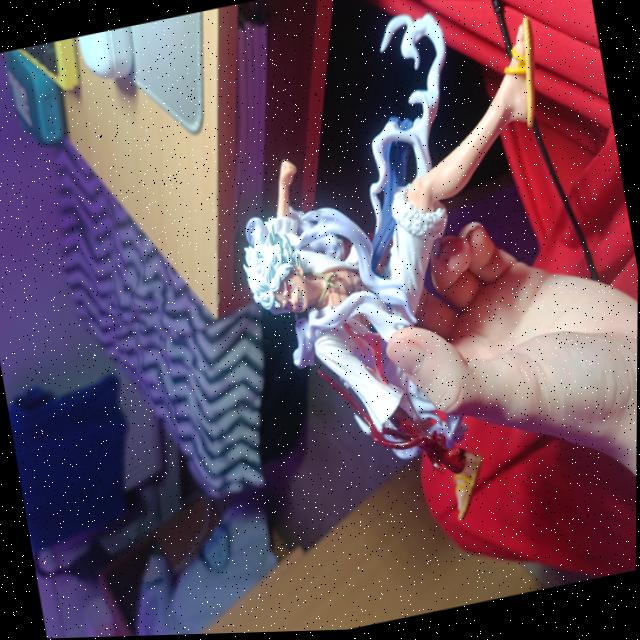luffy: (194, 0, 640, 627)
